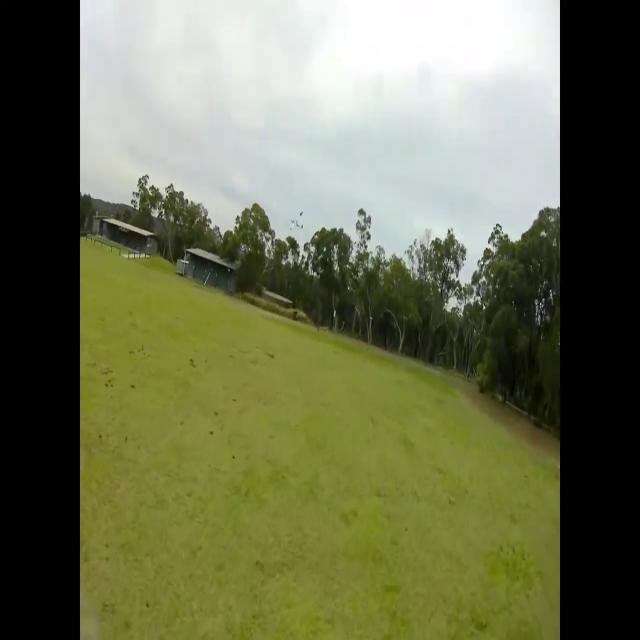iha: (290, 212, 306, 231)
